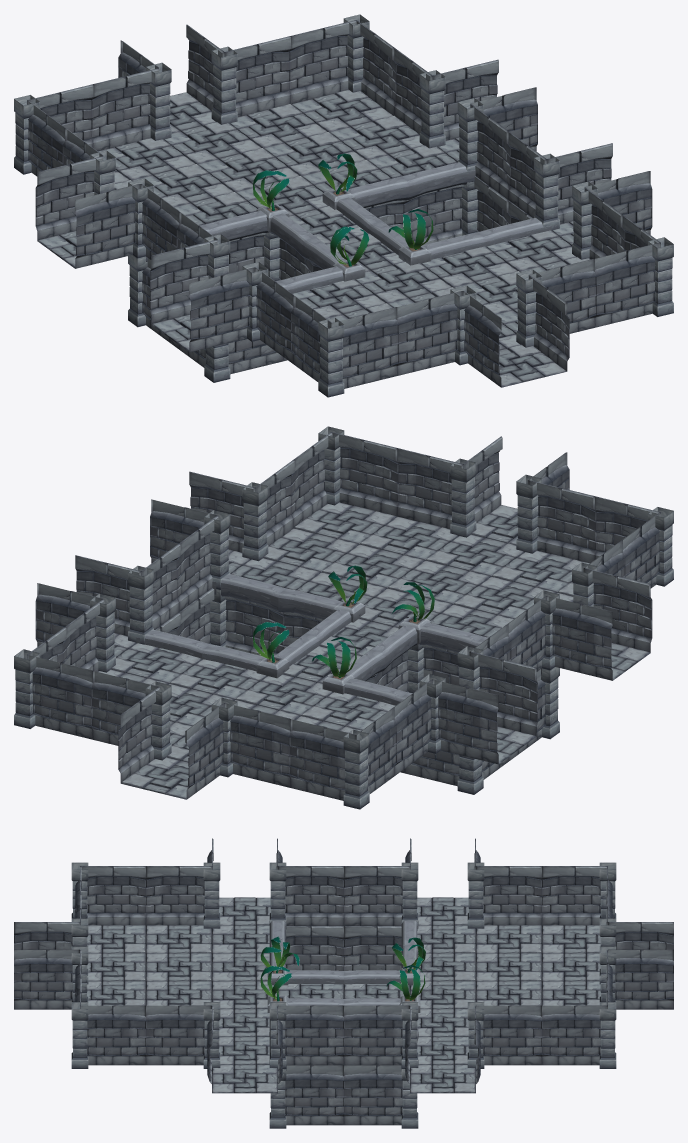
File: GFTemple_LongRoom1.fbx
The picture shows the model from 3 angles, top to bottom: view 1: azimuth 30°, elevation 25°; view 2: azimuth 150°, elevation 25°; view 3: azimuth 270°, elevation 25°; orthographic projection. The views are drawn at different scales.
Visible parts, largest first — view 1: GFTemple_Wall42, GFTemple_Wall75, GFTemple_Wall62, GFTemple_Wall44, GFTemple_Wall86, GFTemple_Wall84, GFTemple_Wall41, GFTemple_Wall85, GFTemple_Wall76, GFTemple_Wall64, GFTemple_Wall43, GFTemple_Floor56 (+84 smaller); view 2: GFTemple_Wall84, GFTemple_Wall64, GFTemple_Wall76, GFTemple_Wall86, GFTemple_Wall44, GFTemple_Wall42, GFTemple_Wall83, GFTemple_Wall43, GFTemple_Wall62, GFTemple_Wall75, GFTemple_Wall85, GFTemple_Floor26 (+84 smaller); view 3: GFTemple_Wall46, GFTemple_Wall88, GFTemple_Wall48, GFTemple_Wall60, GFTemple_Wall68, GFTemple_Wall81, GFTemple_Wall47, GFTemple_Wall82, GFTemple_Wall61, GFTemple_Wall69, GFTemple_Wall51, GFTemple_Wall58 (+62 smaller).
Part boxes in pixels (bbox=[...]): GFTemple_Wall42: bbox=[397, 291, 463, 375]; GFTemple_Wall75: bbox=[75, 184, 140, 268]; GFTemple_Wall62: bbox=[189, 267, 255, 352]; GFTemple_Wall44: bbox=[595, 242, 660, 327]; GFTemple_Wall86: bbox=[289, 20, 356, 104]; GFTemple_Wall84: bbox=[91, 68, 159, 151]; GFTemple_Wall41: bbox=[331, 307, 398, 388]; GFTemple_Wall85: bbox=[224, 36, 290, 116]; GFTemple_Wall76: bbox=[35, 156, 103, 240]; GFTemple_Wall64: bbox=[150, 239, 217, 324]; GFTemple_Wall43: bbox=[528, 259, 596, 333]; GFTemple_Floor56: bbox=[291, 89, 392, 132]; GFTemple_Wall84: bbox=[224, 703, 290, 787]; GFTemple_Wall64: bbox=[547, 596, 612, 680]; GFTemple_Wall76: bbox=[432, 679, 498, 764]; GFTemple_Wall86: bbox=[29, 655, 92, 739]; GFTemple_Wall44: bbox=[331, 432, 398, 516]; GFTemple_Wall42: bbox=[529, 480, 596, 563]; GFTemple_Wall83: bbox=[289, 719, 355, 800]; GFTemple_Wall43: bbox=[397, 448, 463, 528]; GFTemple_Wall62: bbox=[585, 568, 652, 652]; GFTemple_Wall75: bbox=[470, 651, 537, 736]; GFTemple_Wall85: bbox=[91, 671, 158, 745]; GFTemple_Floor26: bbox=[294, 502, 396, 544]; GFTemple_Wall46: bbox=[14, 949, 79, 1009]; GFTemple_Wall88: bbox=[608, 949, 673, 1009]; GFTemple_Wall48: bbox=[146, 1005, 211, 1065]; GFTemple_Wall60: bbox=[278, 1005, 343, 1065]; GFTemple_Wall68: bbox=[344, 1005, 409, 1065]; GFTemple_Wall81: bbox=[476, 1005, 541, 1065]; GFTemple_Wall47: bbox=[81, 1005, 145, 1065]; GFTemple_Wall82: bbox=[542, 1005, 606, 1065]; GFTemple_Wall61: bbox=[285, 1065, 343, 1125]; GFTemple_Wall69: bbox=[344, 1065, 402, 1125]; GFTemple_Wall51: bbox=[146, 866, 211, 925]; GFTemple_Wall58: bbox=[278, 866, 343, 925].
Size of the model in its own units: 28 by 8 by 40.
